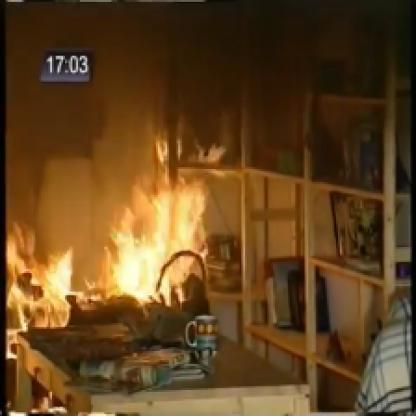fire: (89, 120, 232, 303), (0, 213, 81, 352), (3, 404, 140, 416)
